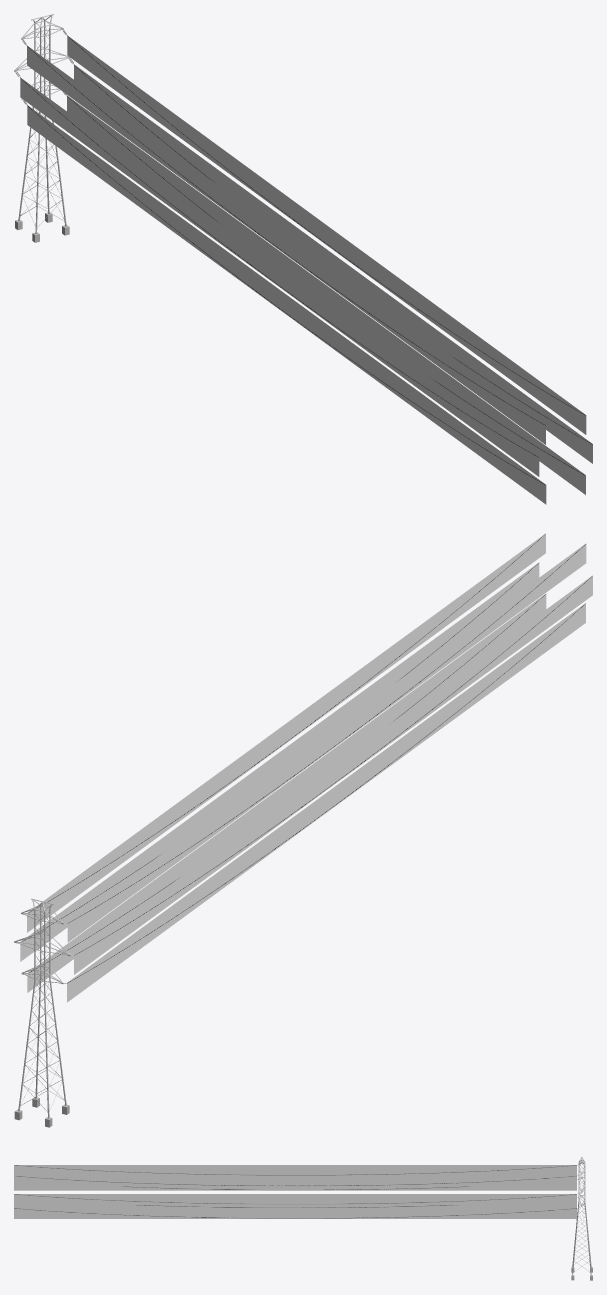
Rendered from Eletric-MetalPole-sd.fbx.
3 views of the same model, one above another, from view 1: azimuth 30°, elevation 25°; view 2: azimuth 150°, elevation 25°; view 3: azimuth 270°, elevation 25° (orthographic). The views are drawn at different scales.
Parts seen in each view (by area): view 1: Wire-a, MetalPole; view 2: Wire-a, MetalPole; view 3: Wire-a, MetalPole.
Part boxes in pixels (<box>): Wire-a: <box>20,35,592,504</box>; MetalPole: <box>14,14,73,242</box>; Wire-a: <box>20,533,592,1002</box>; MetalPole: <box>14,898,73,1127</box>; Wire-a: <box>14,1165,576,1218</box>; MetalPole: <box>571,1157,592,1280</box>.
Bounding box in the file's own units: 649 × 2347 × 10576.
